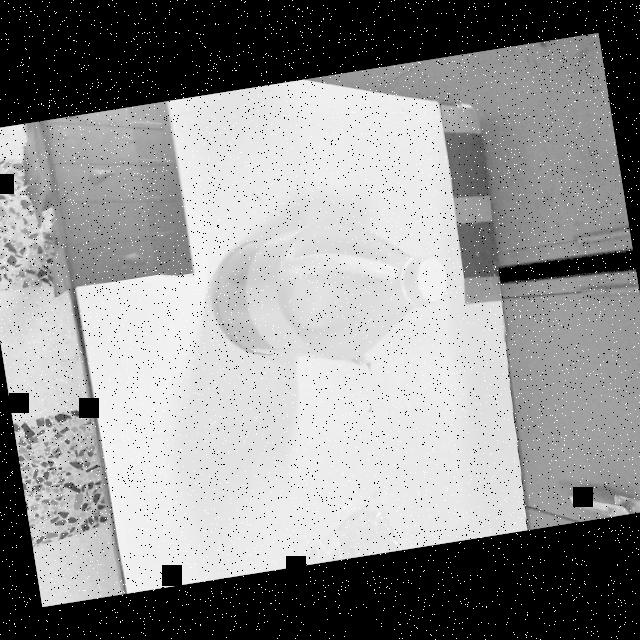chemical_plastic_gallon: (204, 198, 458, 384)
